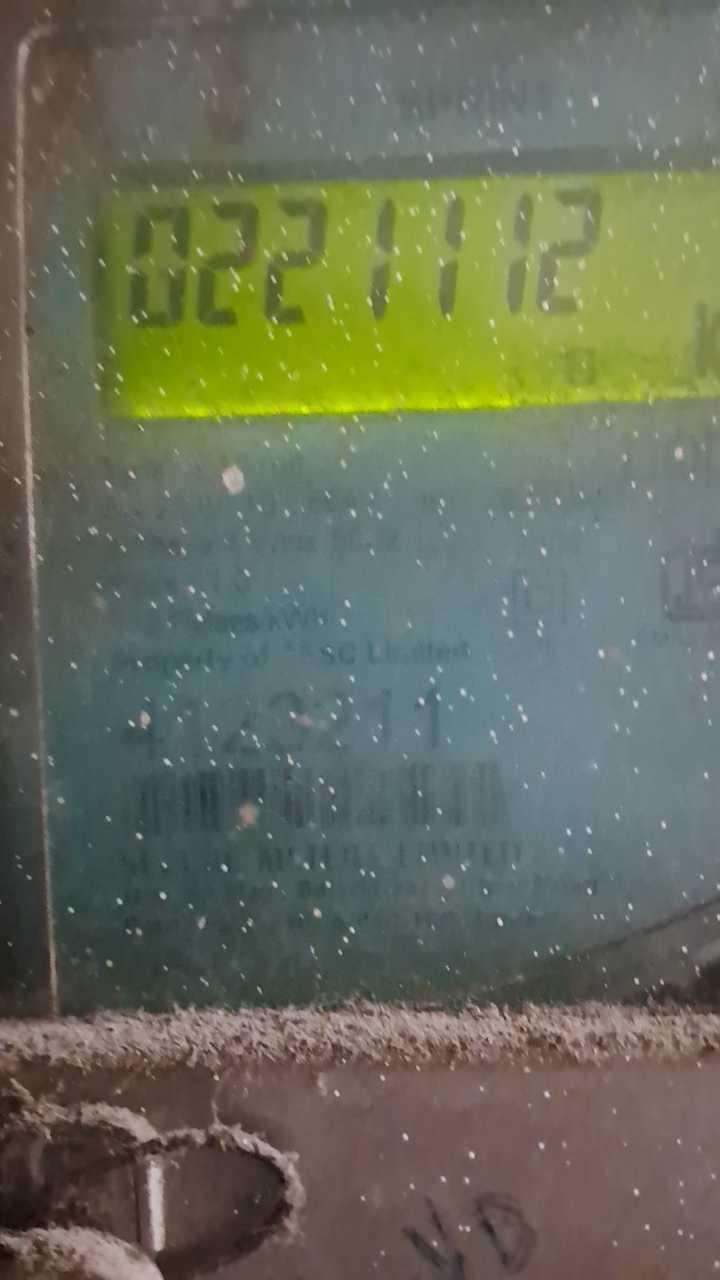meter_readings: (110, 190, 636, 336)
serial_number: (105, 687, 478, 763)
